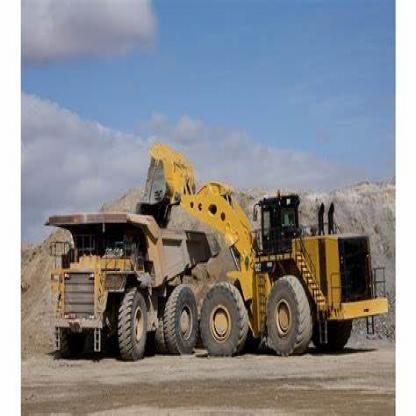bull_dozer/loader/grader: (143, 134, 392, 367)
